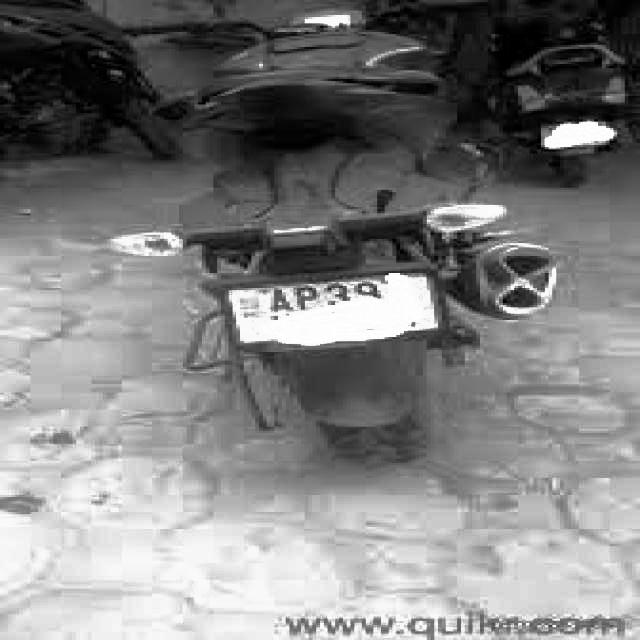Bike: (121, 3, 569, 479), (0, 0, 160, 221), (486, 2, 640, 190)
